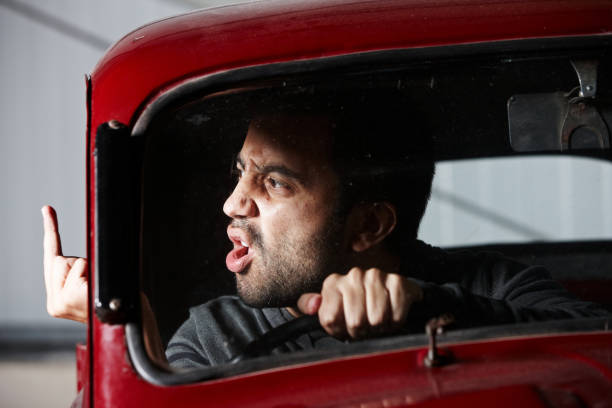insulting_gesture: (36, 203, 90, 328)
